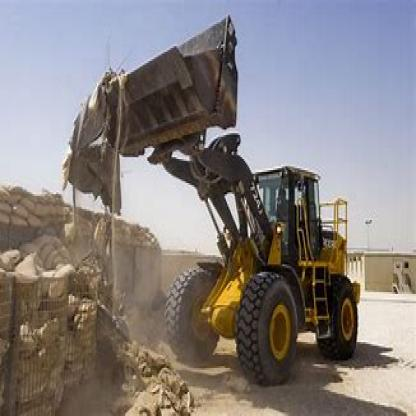bull_dozer/loader/grader: (97, 11, 379, 390)
